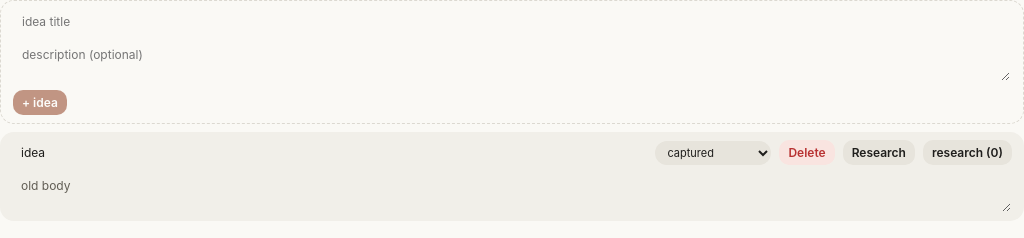
Scenario: IdeasList › reverts the body draft to the store value when the save is rejected (P-27)
The image size is (1024, 238).
Replace the text in the text box with test id "idea-body-input-i1" with "new body" at (512, 193), box [12,173,1012,213]
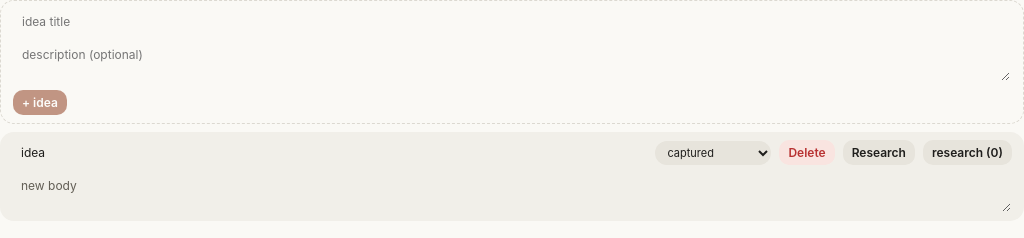
Leave the text box with test id "idea-body-input-i1", box [12,173,1012,213]
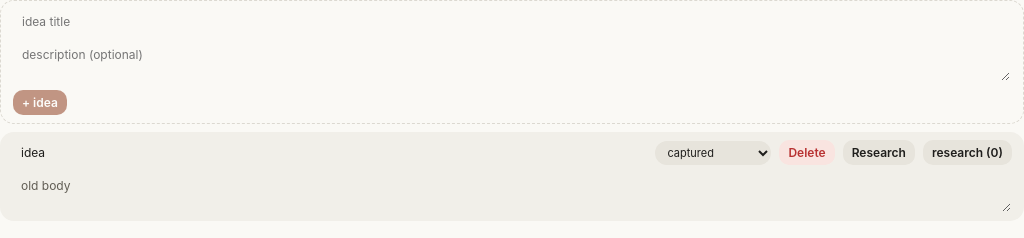
Expected: the text box with test id "idea-body-input-i1" holds "old body", [12,173,1012,213]
